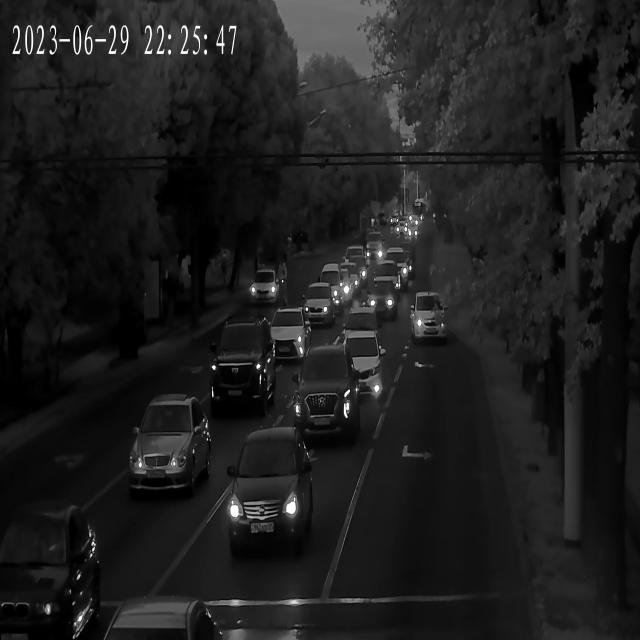Car: (0, 505, 99, 640), (227, 430, 313, 550), (130, 395, 212, 501), (290, 346, 362, 442), (204, 322, 278, 414), (94, 599, 220, 640), (333, 332, 383, 401), (255, 310, 313, 365), (337, 310, 382, 355), (408, 292, 448, 342), (298, 282, 340, 326), (312, 268, 354, 310), (358, 284, 401, 322), (250, 270, 285, 306), (370, 263, 406, 298), (381, 248, 411, 282), (342, 246, 370, 270), (362, 238, 382, 258)
